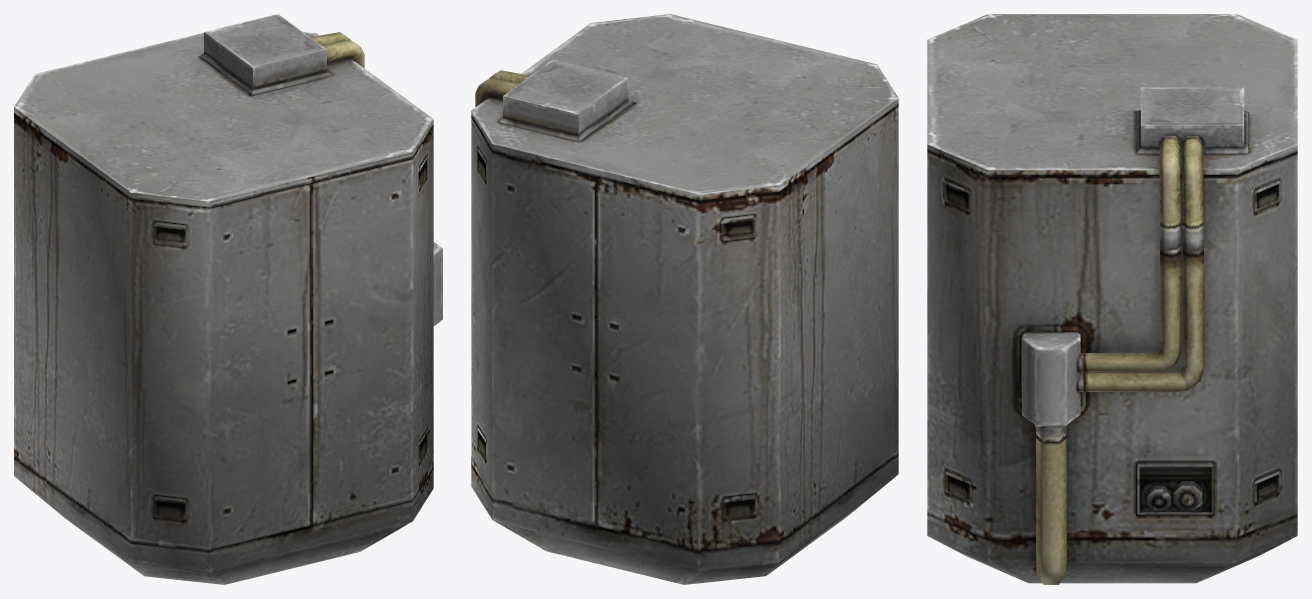
File: module_ark_room_01.DAE
3 views of the same model, side by side, from view 1: azimuth 30°, elevation 25°; view 2: azimuth 150°, elevation 25°; view 3: azimuth 270°, elevation 25° (orthographic). The views are drawn at different scales.
Visible parts, largest first — view 1: module_ark_room_01; view 2: module_ark_room_01; view 3: module_ark_room_01.
Boxes of the visible parts, <box> form: module_ark_room_01: <box>14,14,442,584</box>; module_ark_room_01: <box>471,14,898,584</box>; module_ark_room_01: <box>927,14,1297,584</box>.
Size of the model in its own units: 1.3 by 1.6 by 1.17.
